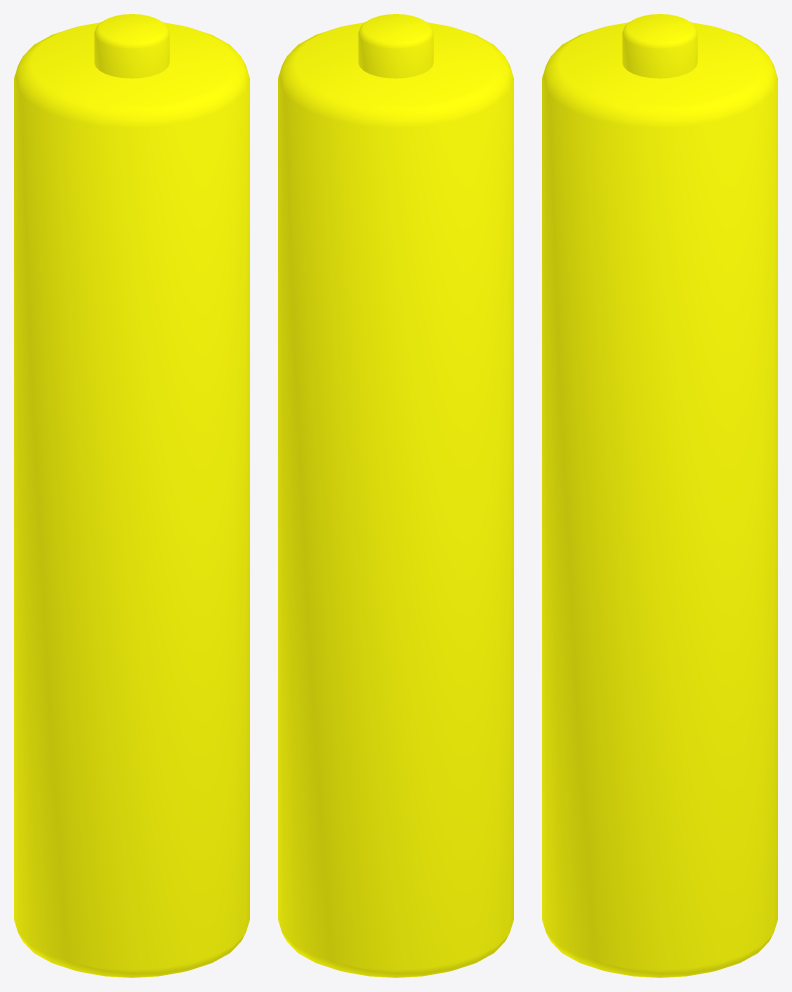
Rendered from SM_Battery_01.glb.
The picture shows the model from 3 angles, left to right: view 1: azimuth 30°, elevation 25°; view 2: azimuth 150°, elevation 25°; view 3: azimuth 270°, elevation 25°; orthographic projection.
Visible parts, largest first — view 1: SM_Battery_01_LOD0; view 2: SM_Battery_01_LOD0; view 3: SM_Battery_01_LOD0.
Part boxes in pixels (box(x1,y1,x2,y2)): SM_Battery_01_LOD0: box(14, 14, 249, 977); SM_Battery_01_LOD0: box(278, 14, 513, 977); SM_Battery_01_LOD0: box(542, 14, 777, 977).
Size of what is drawn, in the model's own units: 0.0206 by 0.0873 by 0.0206.
Materials: 1 (1 with a texture image).
